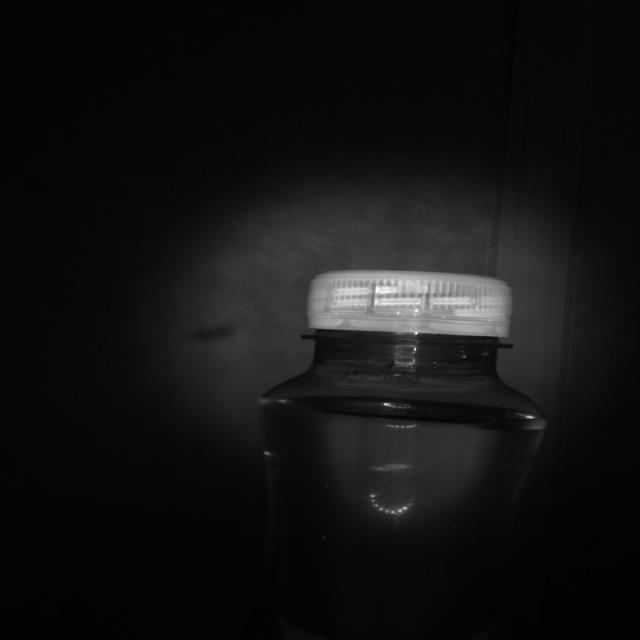Good: (305, 267, 515, 343)
